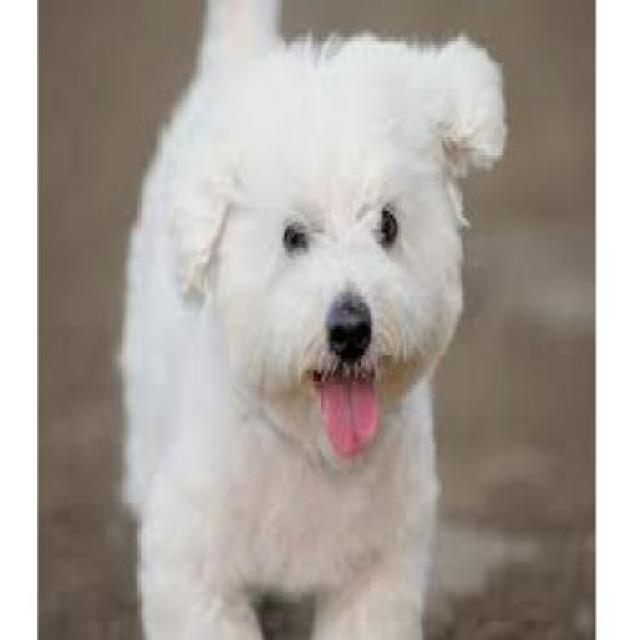Dog: (115, 0, 511, 637)
